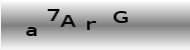7: (47, 7, 60, 23)
A: (59, 14, 77, 28)
G: (112, 10, 129, 23)
a: (24, 26, 38, 37)
r: (85, 20, 96, 30)
